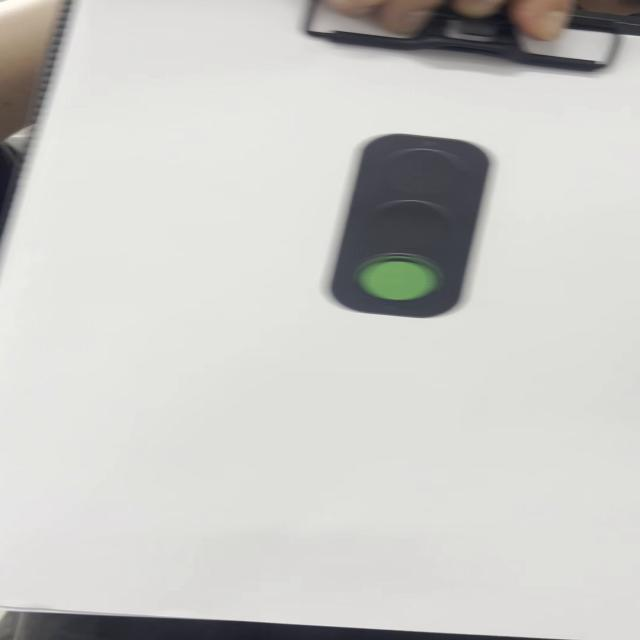green: (327, 132, 491, 324)
